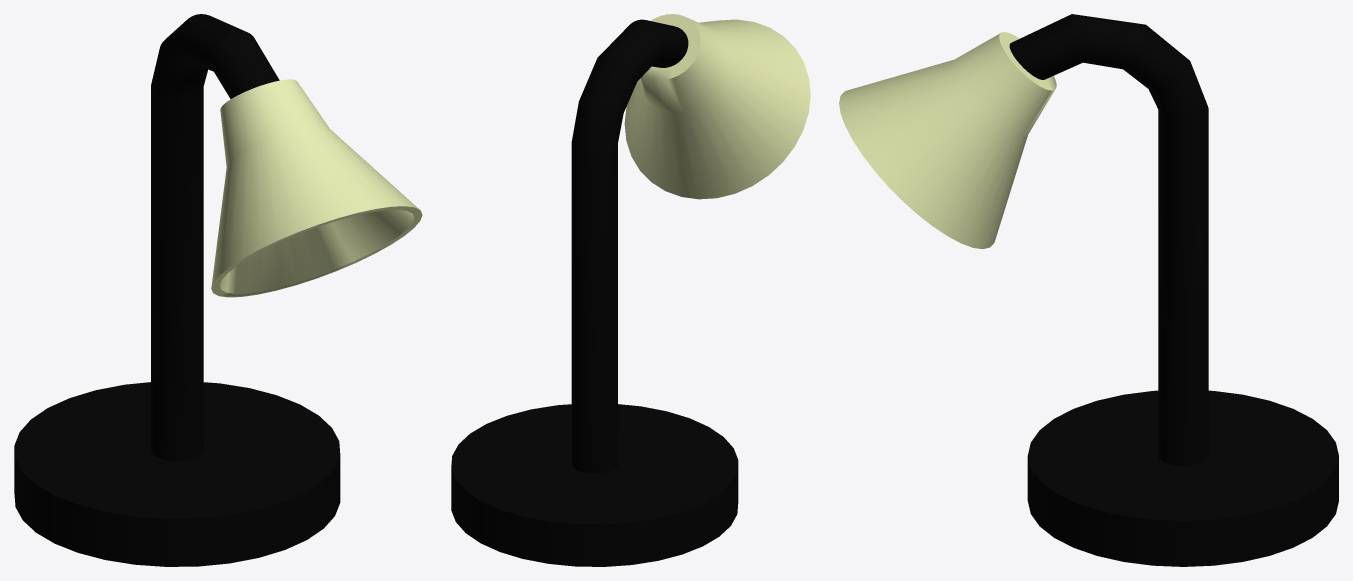
File: SmallLamp.fbx
The picture shows the model from 3 angles, left to right: view 1: azimuth 30°, elevation 25°; view 2: azimuth 150°, elevation 25°; view 3: azimuth 270°, elevation 25°; orthographic projection. The views are drawn at different scales.
Parts seen in each view (by area): view 1: Cylinder; view 2: Cylinder; view 3: Cylinder.
Boxes of the visible parts, <box> form: Cylinder: <box>14,14,422,566</box>; Cylinder: <box>451,14,810,566</box>; Cylinder: <box>839,14,1338,566</box>.
Bounding box in the file's own units: 200 × 344 × 321.
